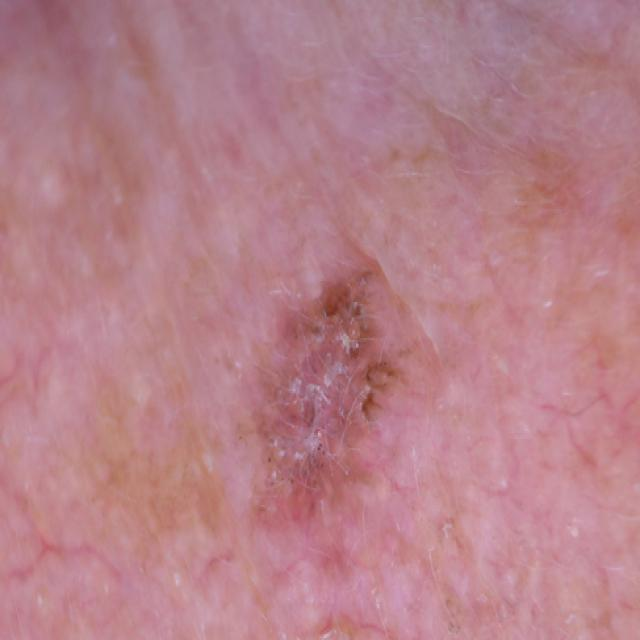Melanoma: (222, 242, 438, 553)
